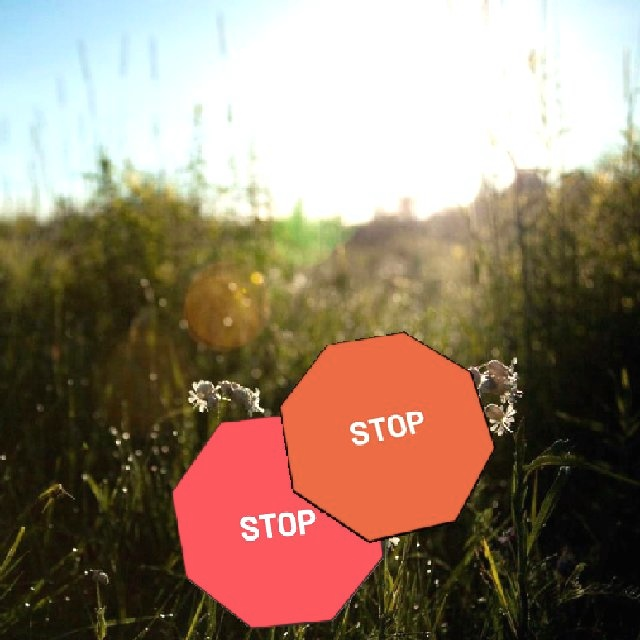STOP: (169, 410, 383, 628), (277, 330, 495, 542)
